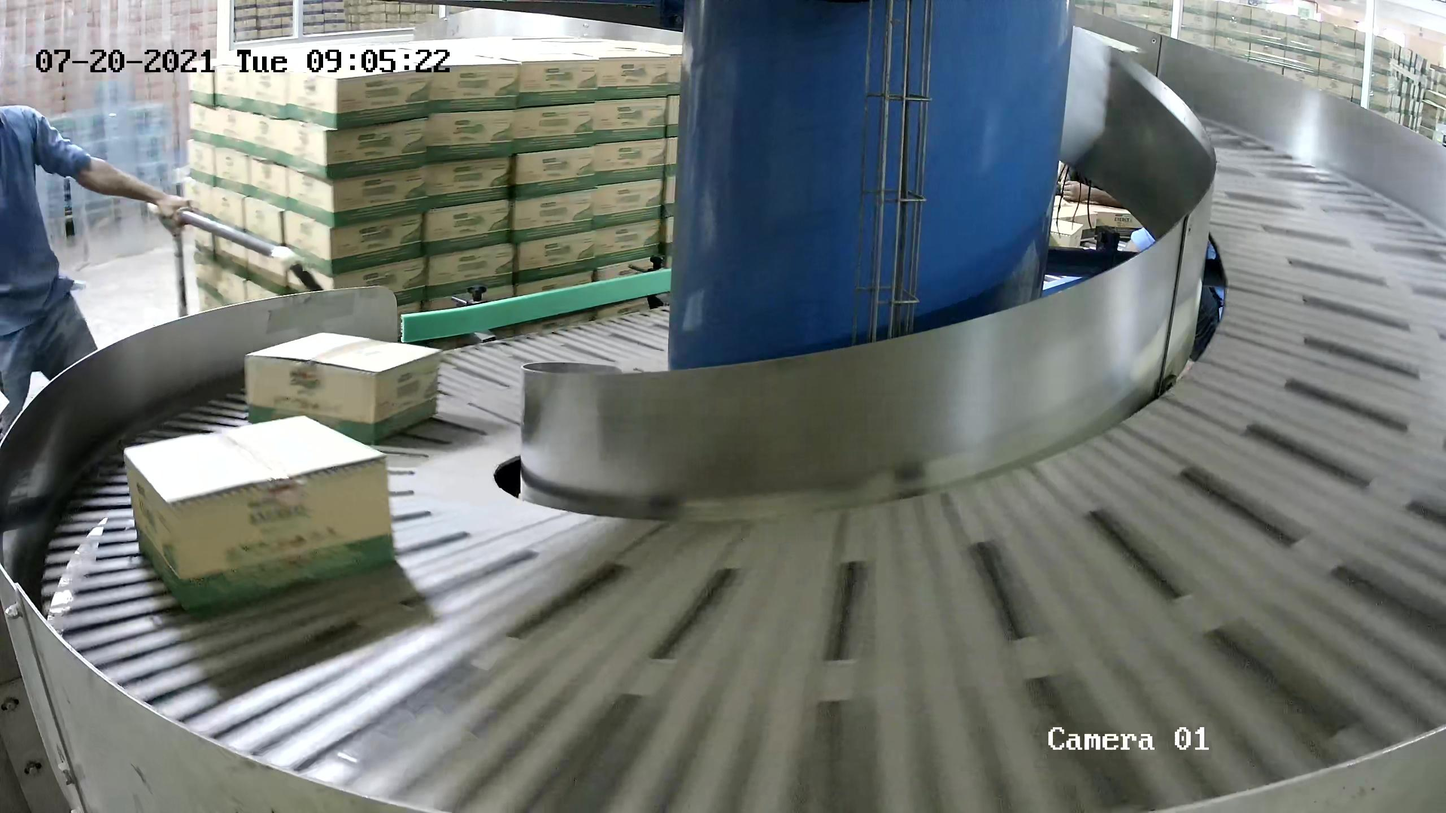Box: (122, 413, 398, 615), (242, 330, 444, 445)
